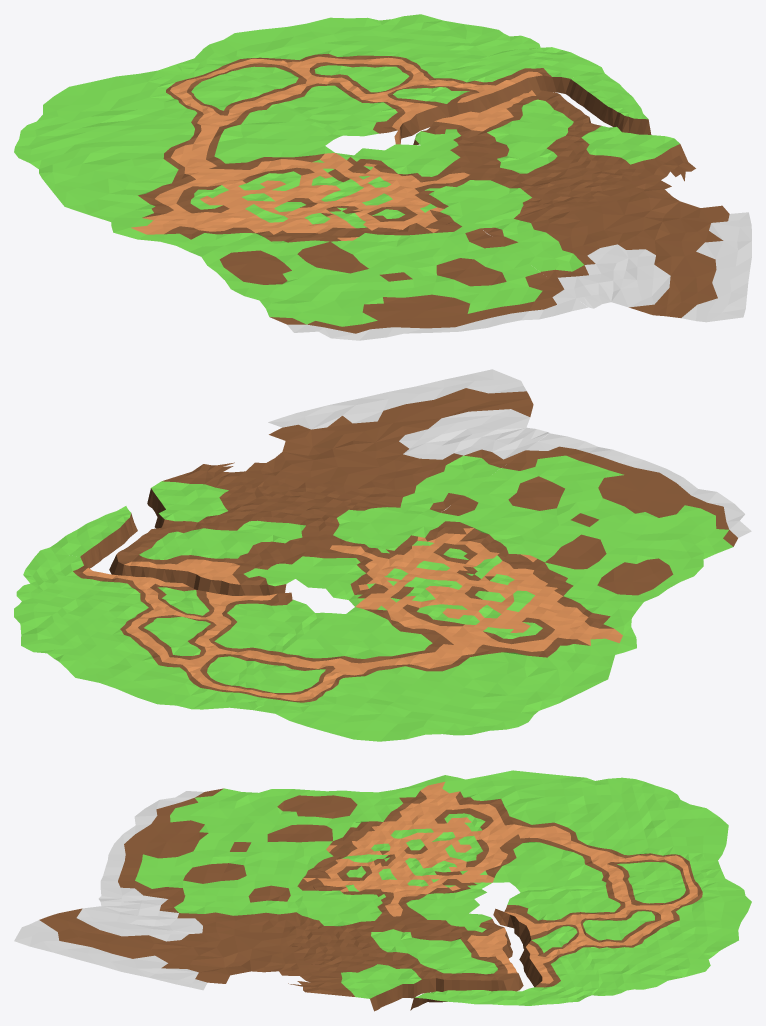
Rendered from Ground_01.fbx.
The picture shows the model from 3 angles, top to bottom: view 1: azimuth 30°, elevation 25°; view 2: azimuth 150°, elevation 25°; view 3: azimuth 270°, elevation 25°; orthographic projection. The views are drawn at different scales.
Parts seen in each view (by area): view 1: Ground_01; view 2: Ground_01; view 3: Ground_01.
Part boxes in pixels (x1,y1,x2,y2): Ground_01: (14,14,751,340); Ground_01: (14,369,751,741); Ground_01: (14,770,751,1011).
Bounding box in the file's own units: 17846 × 497 × 23659.
